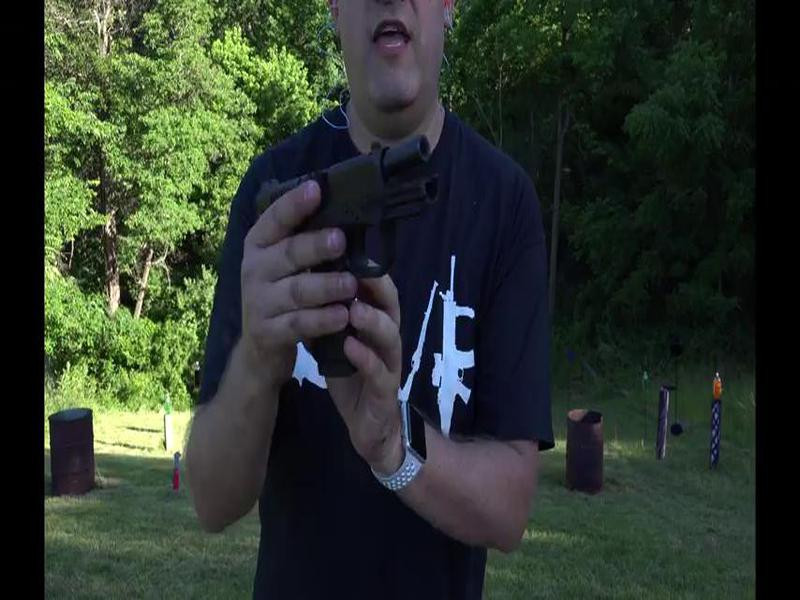Pistola: (247, 131, 467, 387)
